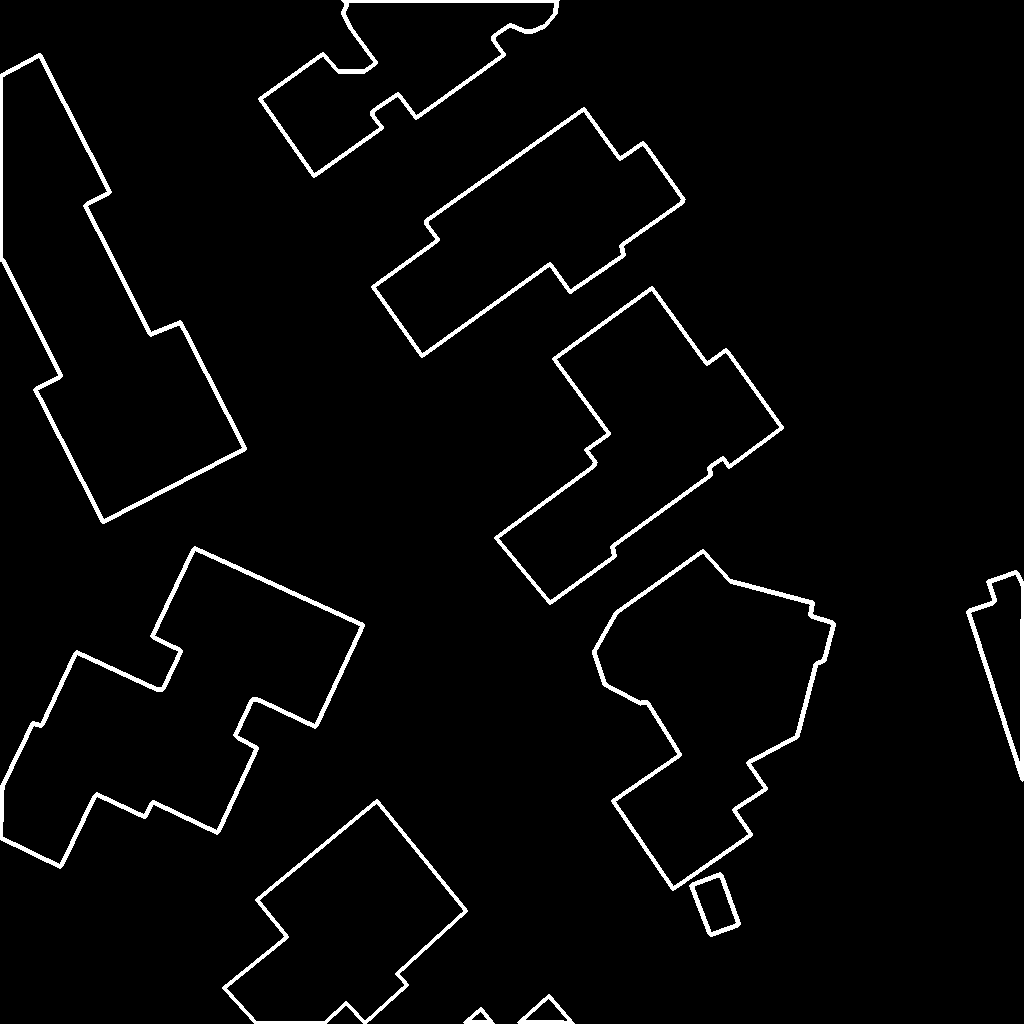building: (0, 548, 364, 868), (0, 55, 246, 523), (496, 288, 783, 604), (594, 551, 835, 890), (373, 109, 685, 357), (224, 801, 467, 1024), (260, 0, 558, 177), (968, 572, 1024, 782), (465, 996, 574, 1024), (691, 874, 740, 936)
